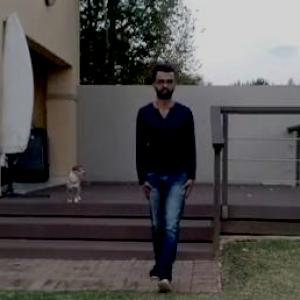follow: (126, 57, 196, 299)
